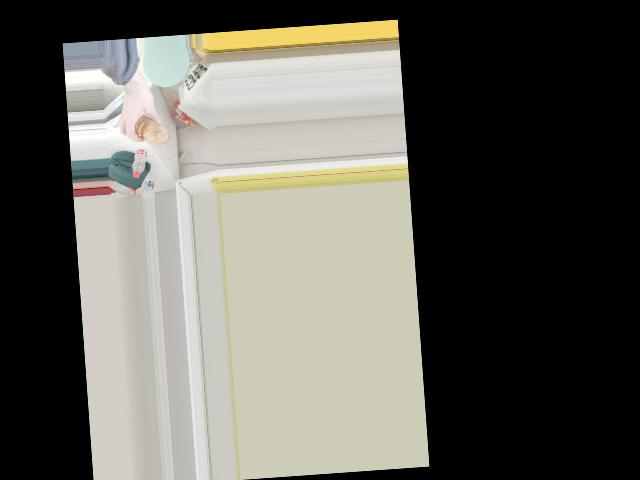sweet_potato: (136, 114, 169, 148)
